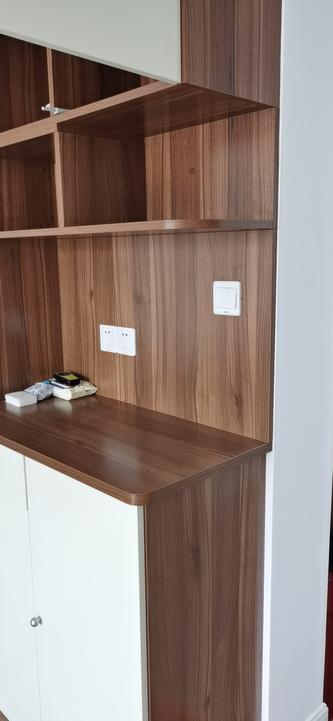switch: (215, 281, 240, 311)
